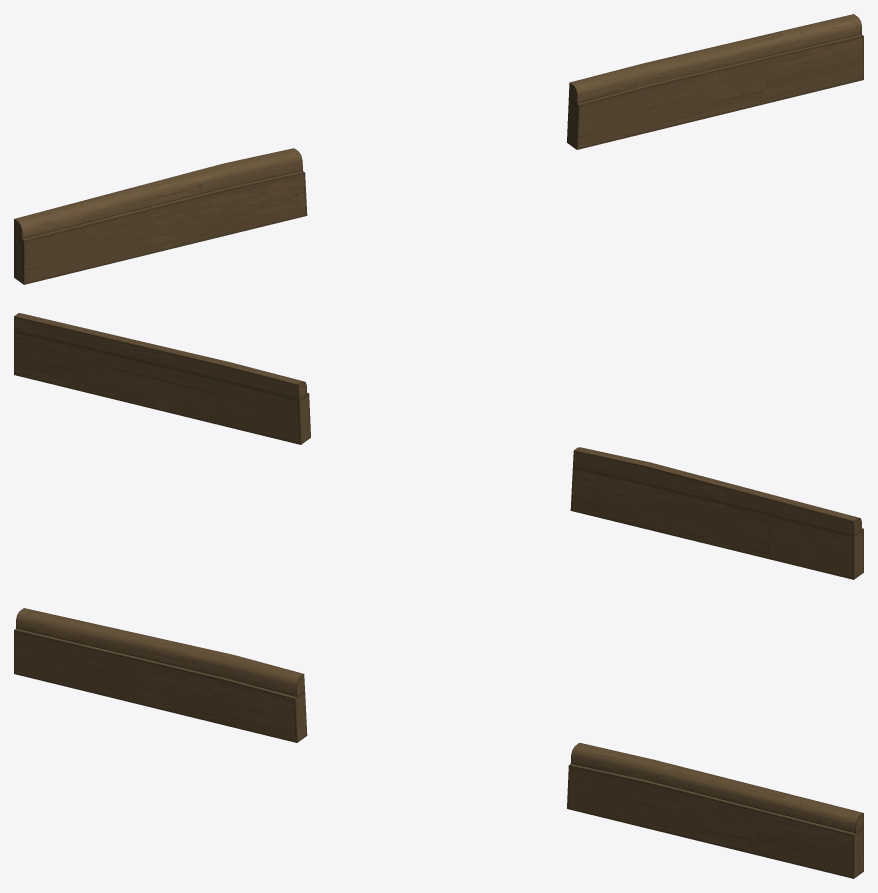
The model's file is SM_plinth_03.glb.
The picture shows the model from 3 angles, top to bottom: view 1: azimuth 30°, elevation 25°; view 2: azimuth 150°, elevation 25°; view 3: azimuth 330°, elevation 25°; orthographic projection.
Visible parts, largest first — view 1: SM_plinth_03; view 2: SM_plinth_03; view 3: SM_plinth_03.
Boxes of the visible parts, left/top/right/bottom form: SM_plinth_03: left=14, top=14, right=863, bottom=284; SM_plinth_03: left=14, top=313, right=863, bottom=579; SM_plinth_03: left=14, top=608, right=863, bottom=878.
Size of the model in its own units: 6 by 0.4298 by 0.1245.
1 material, 1 textured.
